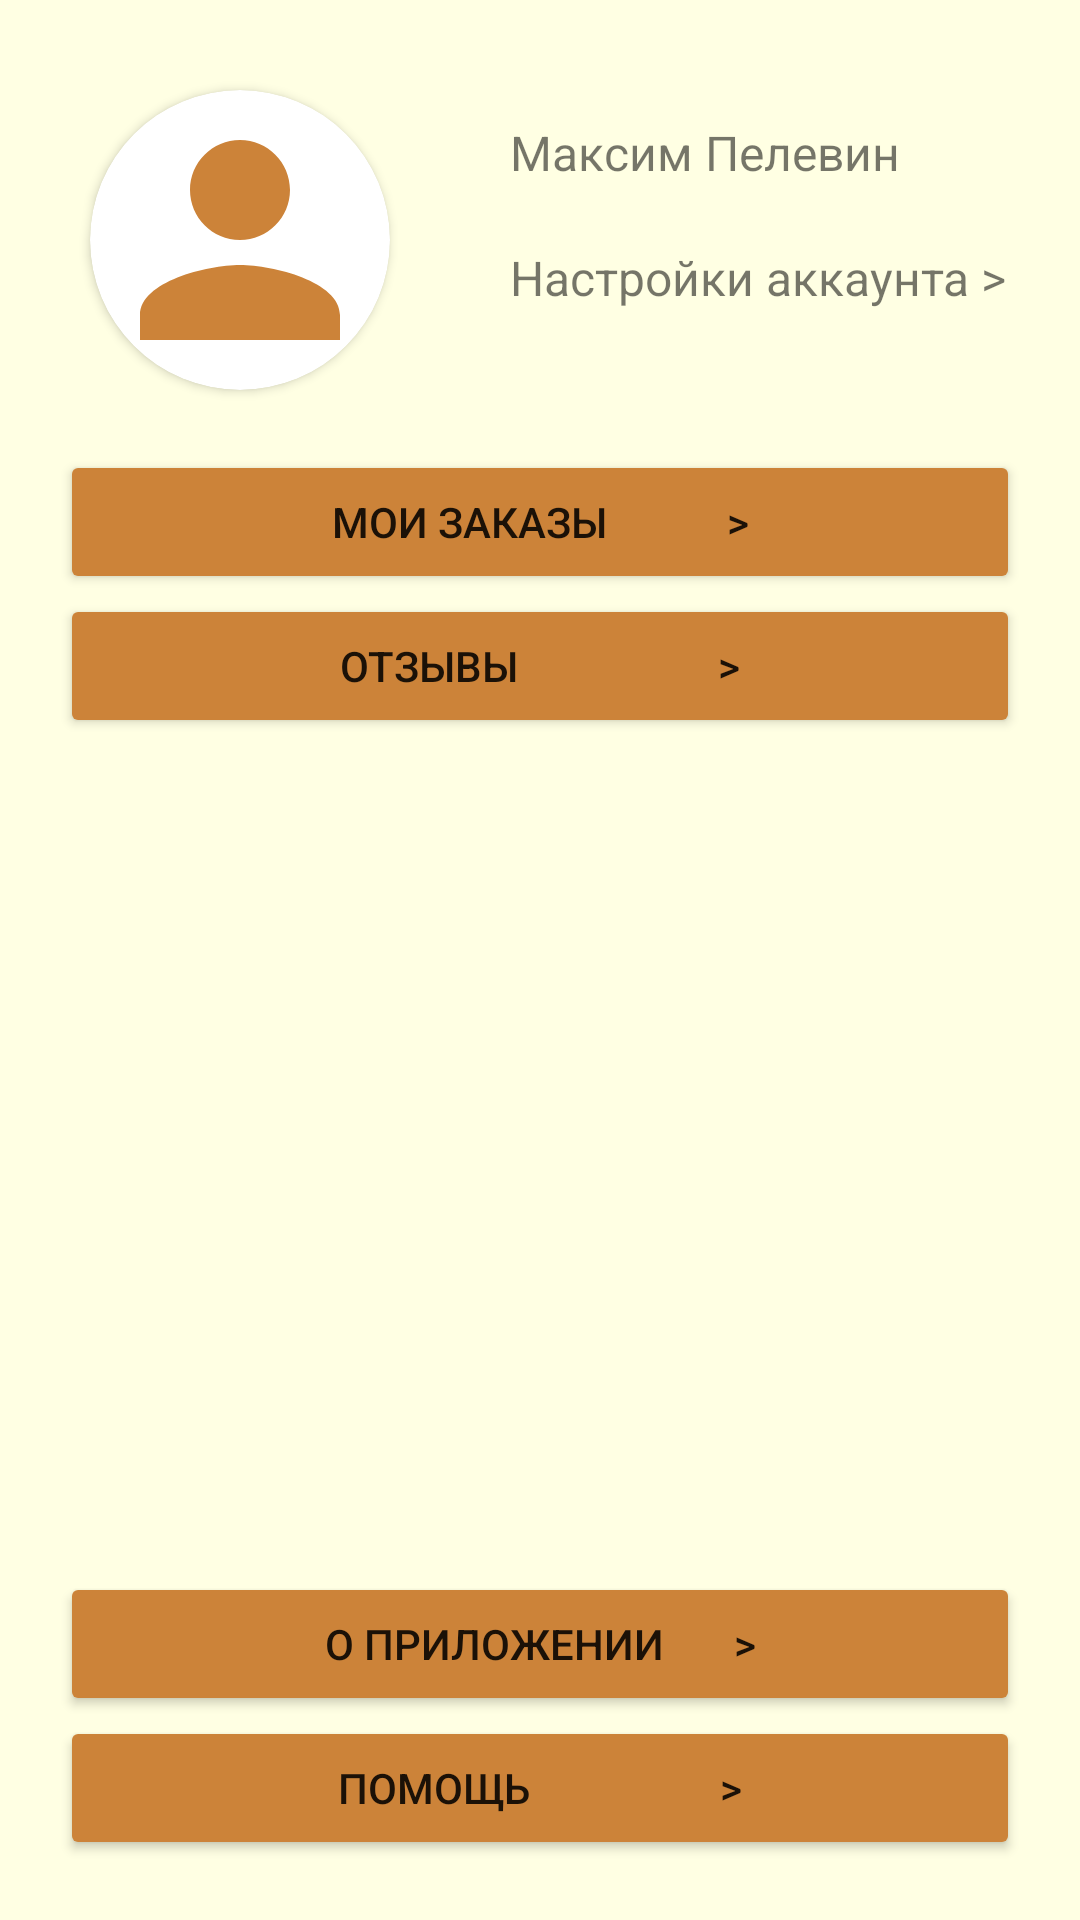

Icons on this 1080 × 1920 Android screen, each with its box as BBox(x1, y1, x2, y2):
person: BBox(90, 90, 390, 390)
